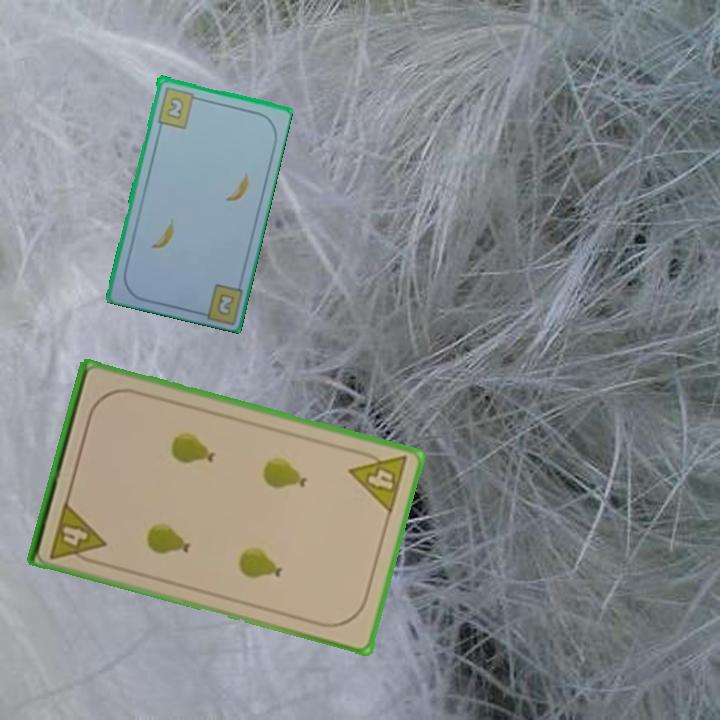2b: (154, 83, 202, 131), (213, 289, 237, 318)
4p: (346, 445, 411, 517), (46, 497, 109, 568)
